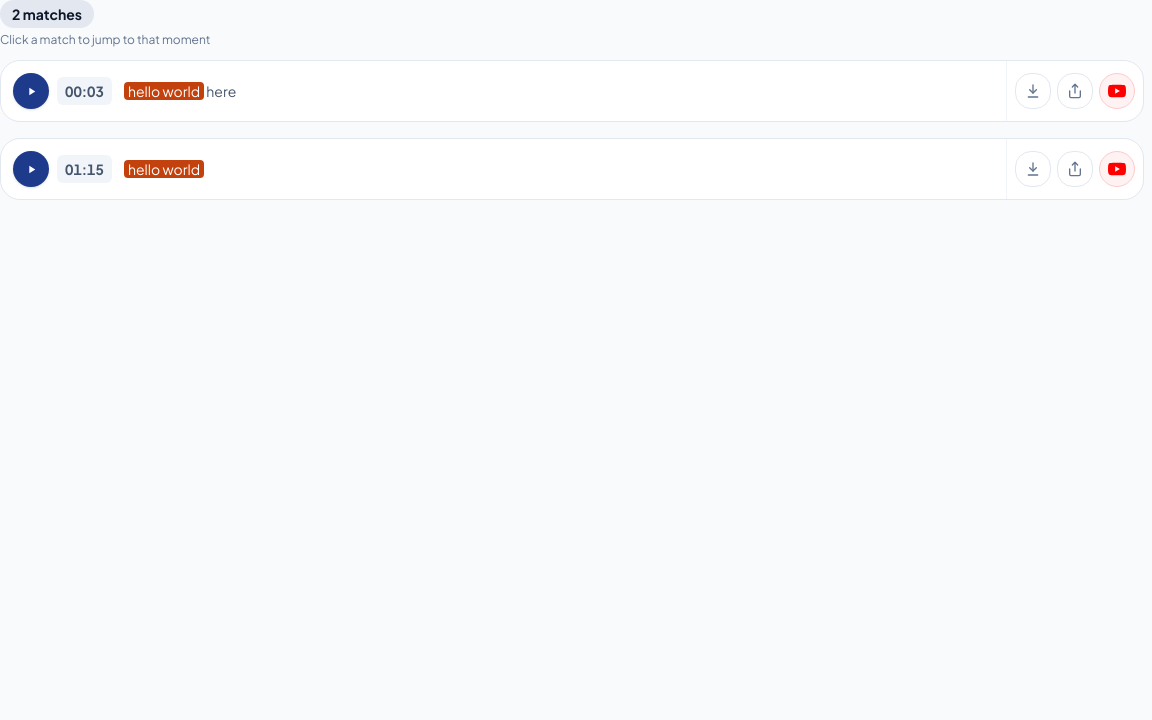
Test: ResultsList › opens the download dialog from a match with the start pre-filled
The width and height of the screenshot is (1152, 720).
Click the button named "Download from 01:15 to the end (MP4)". click: (1033, 169)
box: [1015,151,1051,187]
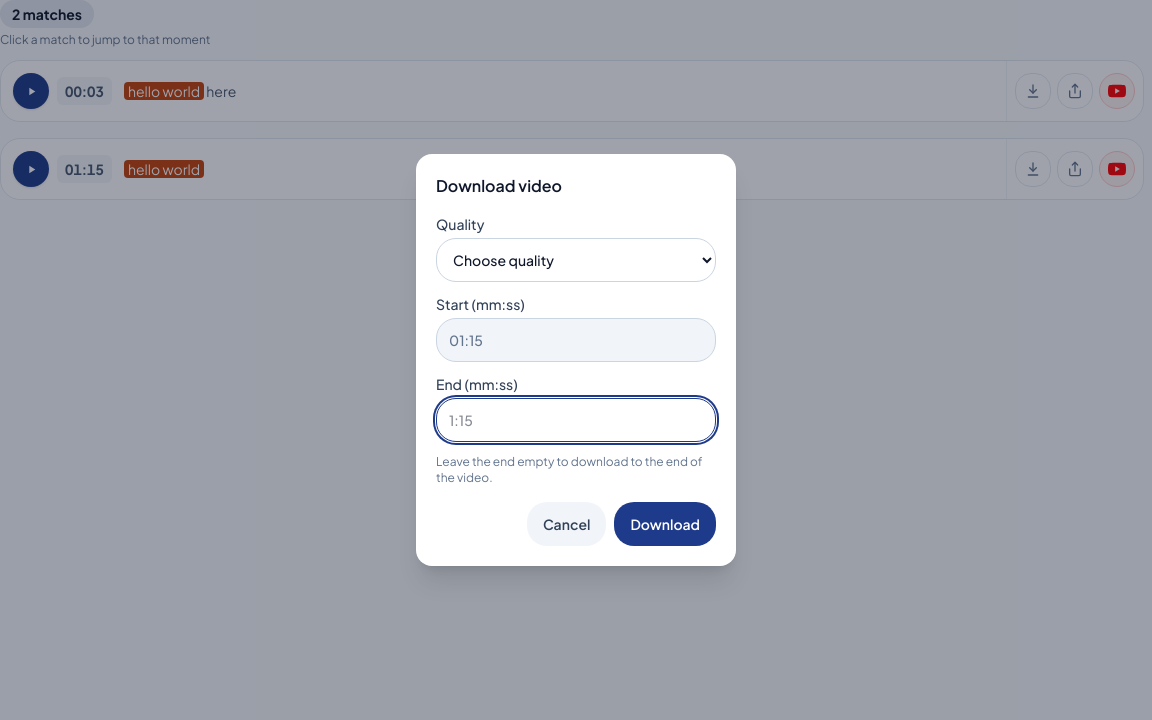
Check: the field labelled "Start (mm:ss)" holds "01:15", box [436,318,716,362]
